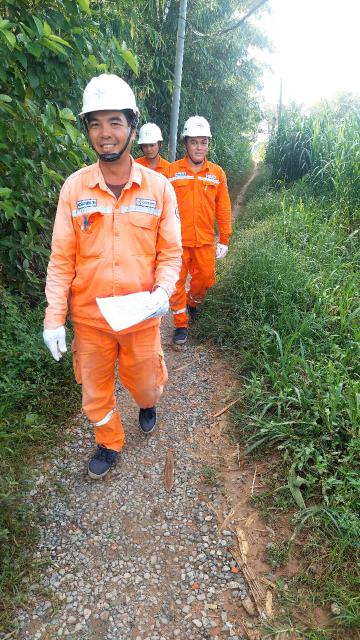gloves: (30, 317, 76, 361), (142, 285, 174, 318), (213, 239, 232, 263)
shoes: (73, 69, 141, 124), (77, 422, 127, 479), (123, 396, 163, 440), (125, 114, 167, 151), (175, 112, 217, 146)
